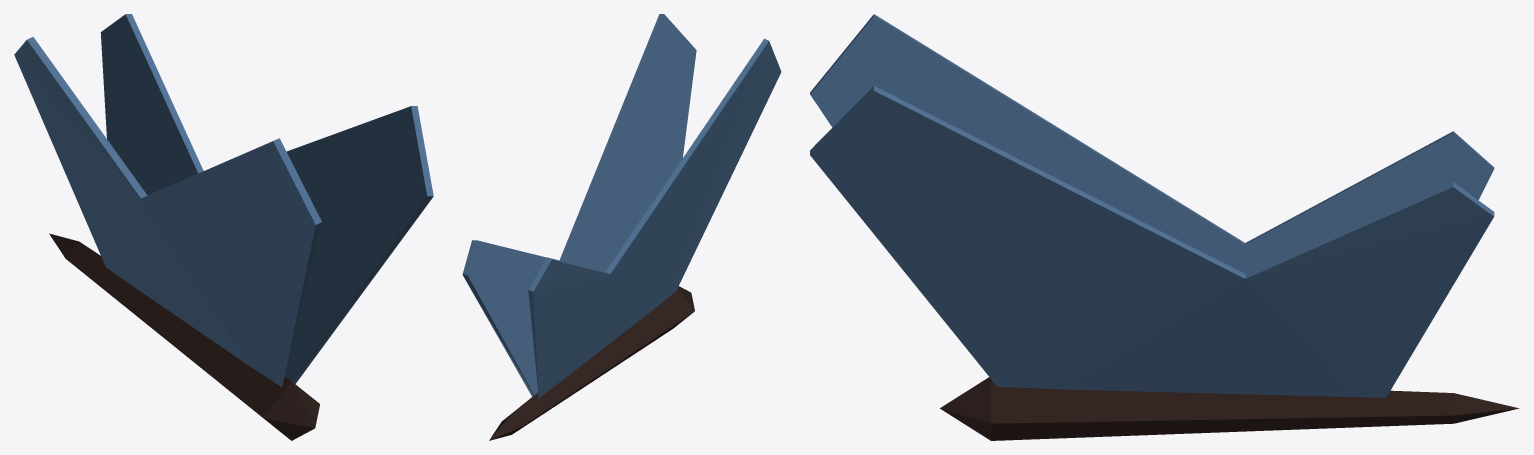
File: ButterflyB_Closed.fbx
The picture shows the model from 3 angles, left to right: view 1: azimuth 30°, elevation 25°; view 2: azimuth 150°, elevation 25°; view 3: azimuth 270°, elevation 25°; orthographic projection. The views are drawn at different scales.
Visible parts, largest first — view 1: ButterflyB_Closed; view 2: ButterflyB_Closed; view 3: ButterflyB_Closed.
Part boxes in pixels (x1,y1,x2,y2): ButterflyB_Closed: [14, 14, 433, 440]; ButterflyB_Closed: [462, 14, 781, 440]; ButterflyB_Closed: [810, 14, 1519, 440].
Size of the model in its own units: 8.38 by 19.86 by 32.75.
